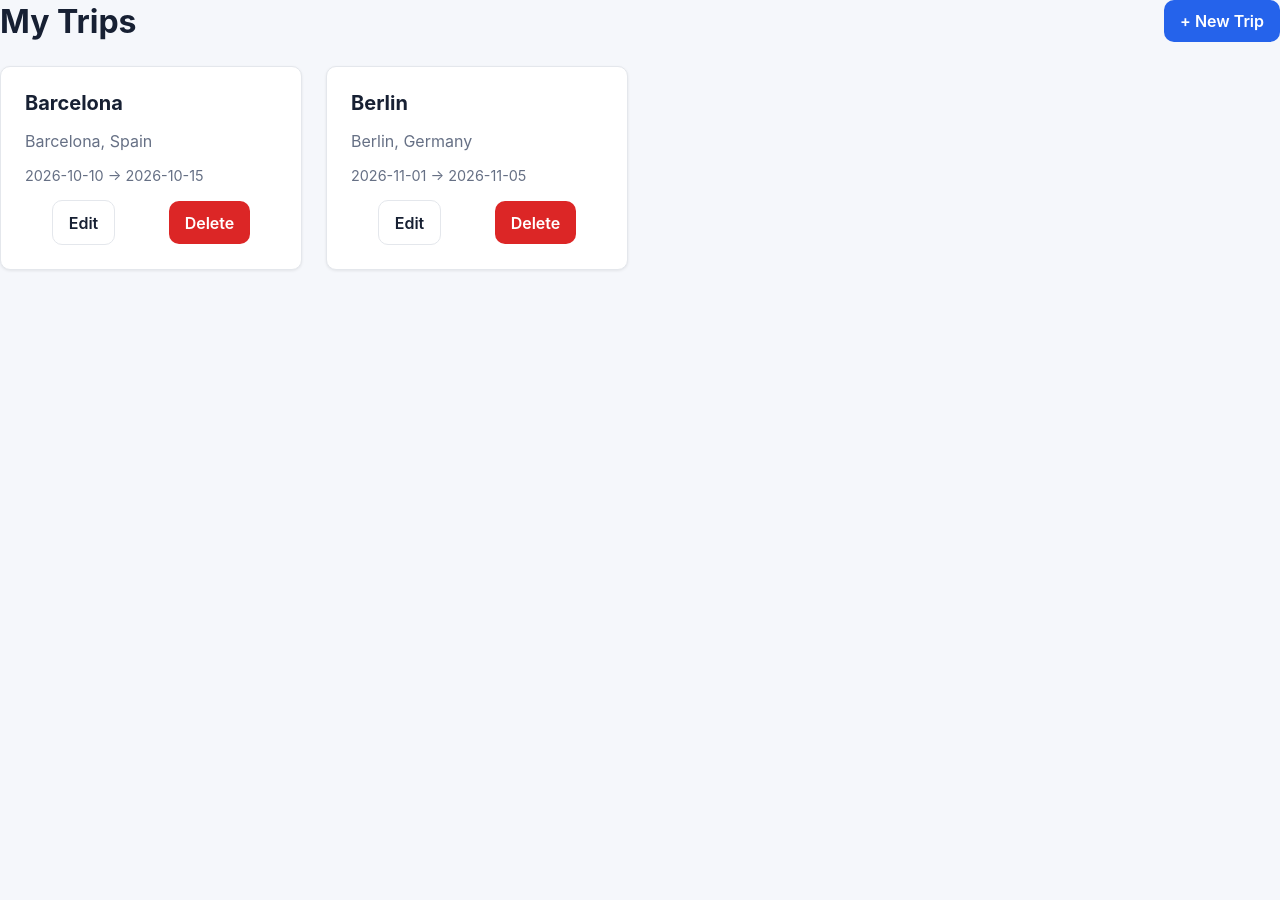
TripList › deletes a trip after confirming
Expected: the heading "Barcelona" is shown, [25,91,123,115]
Click the button "Delete" below "2026-10-10": click(209, 223) [169,201,250,244]
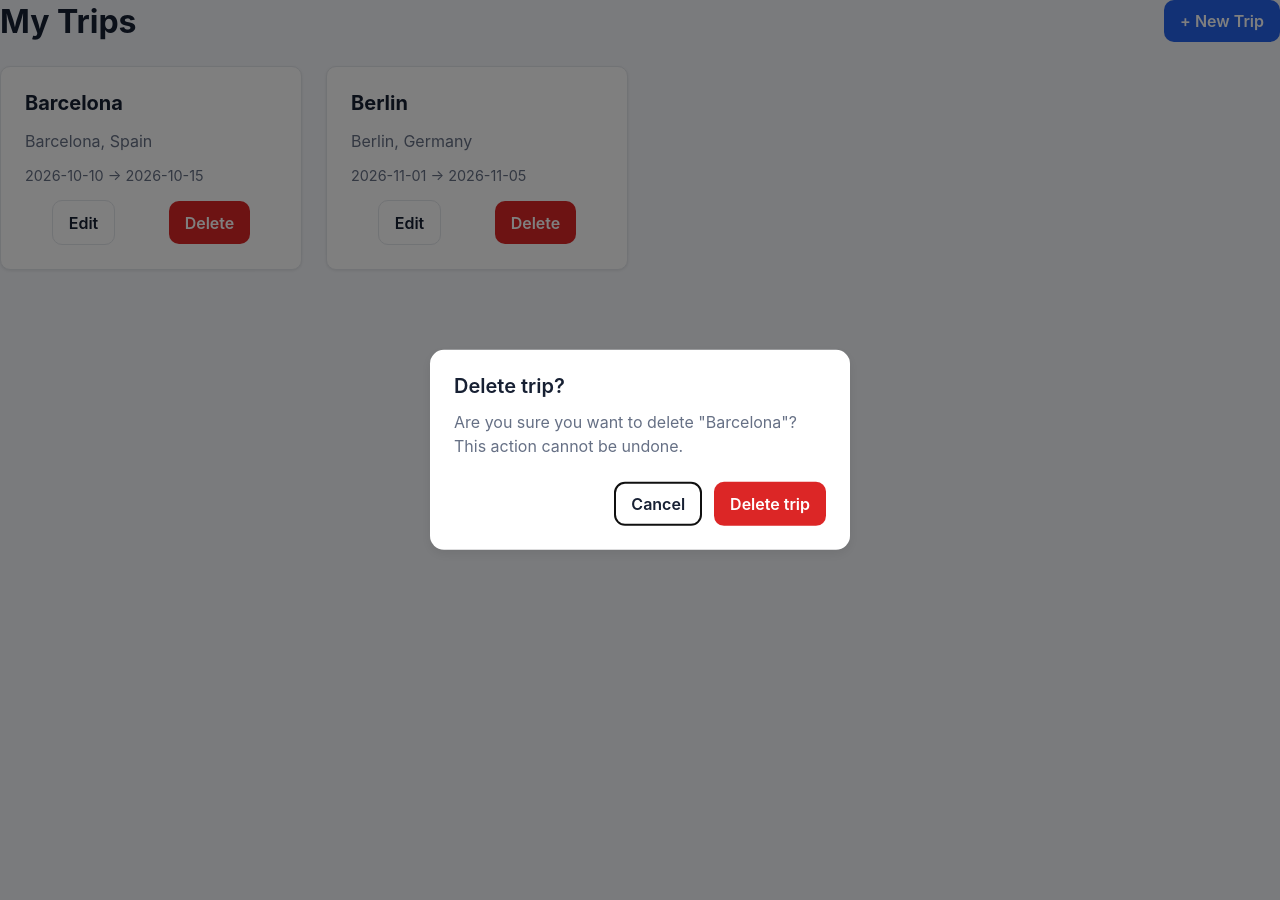
Click the button "Delete trip": click(770, 504) [714,482,826,526]
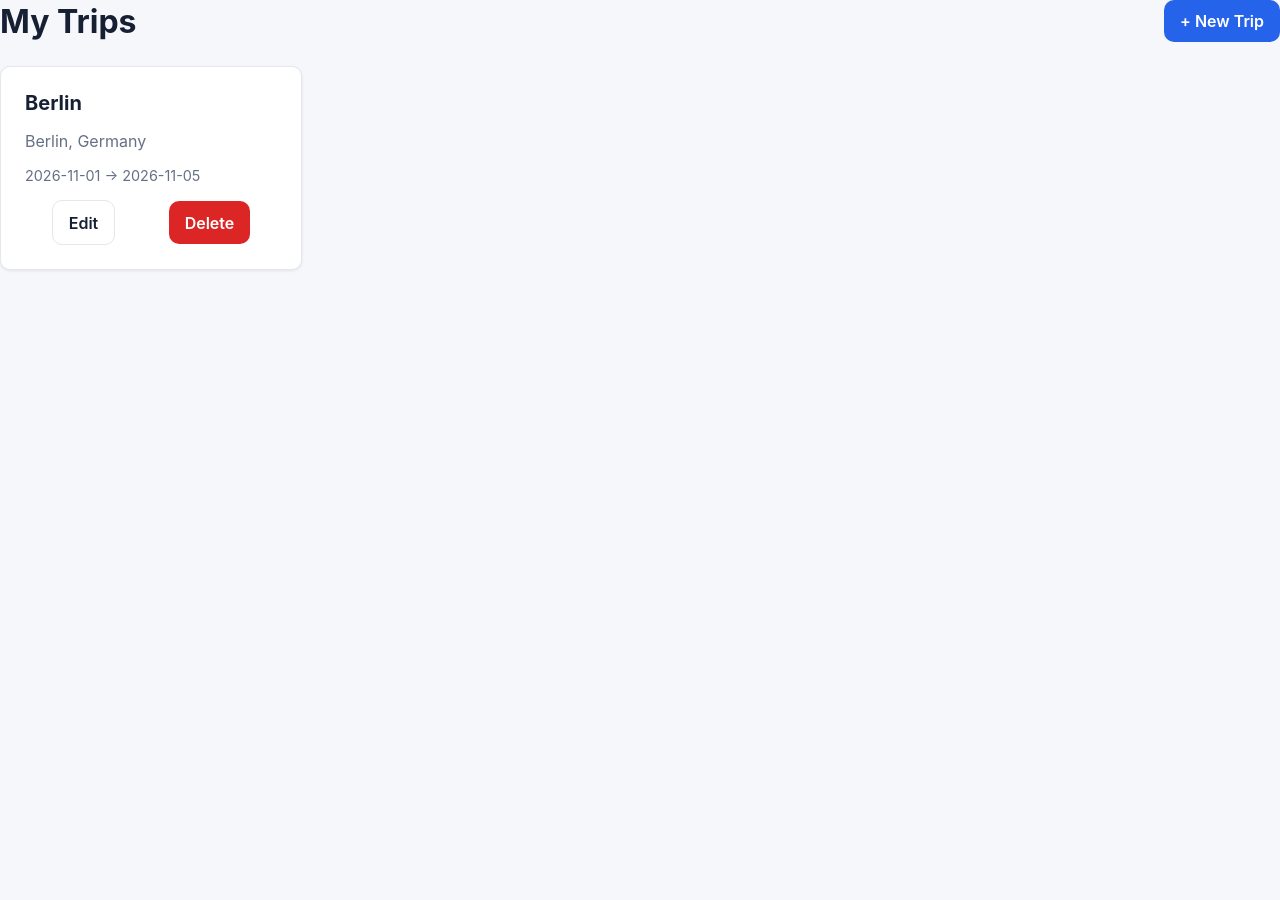
Expected: the heading "Berlin" is shown, [25,91,82,115]
Now the heading "Barcelona" is gone
